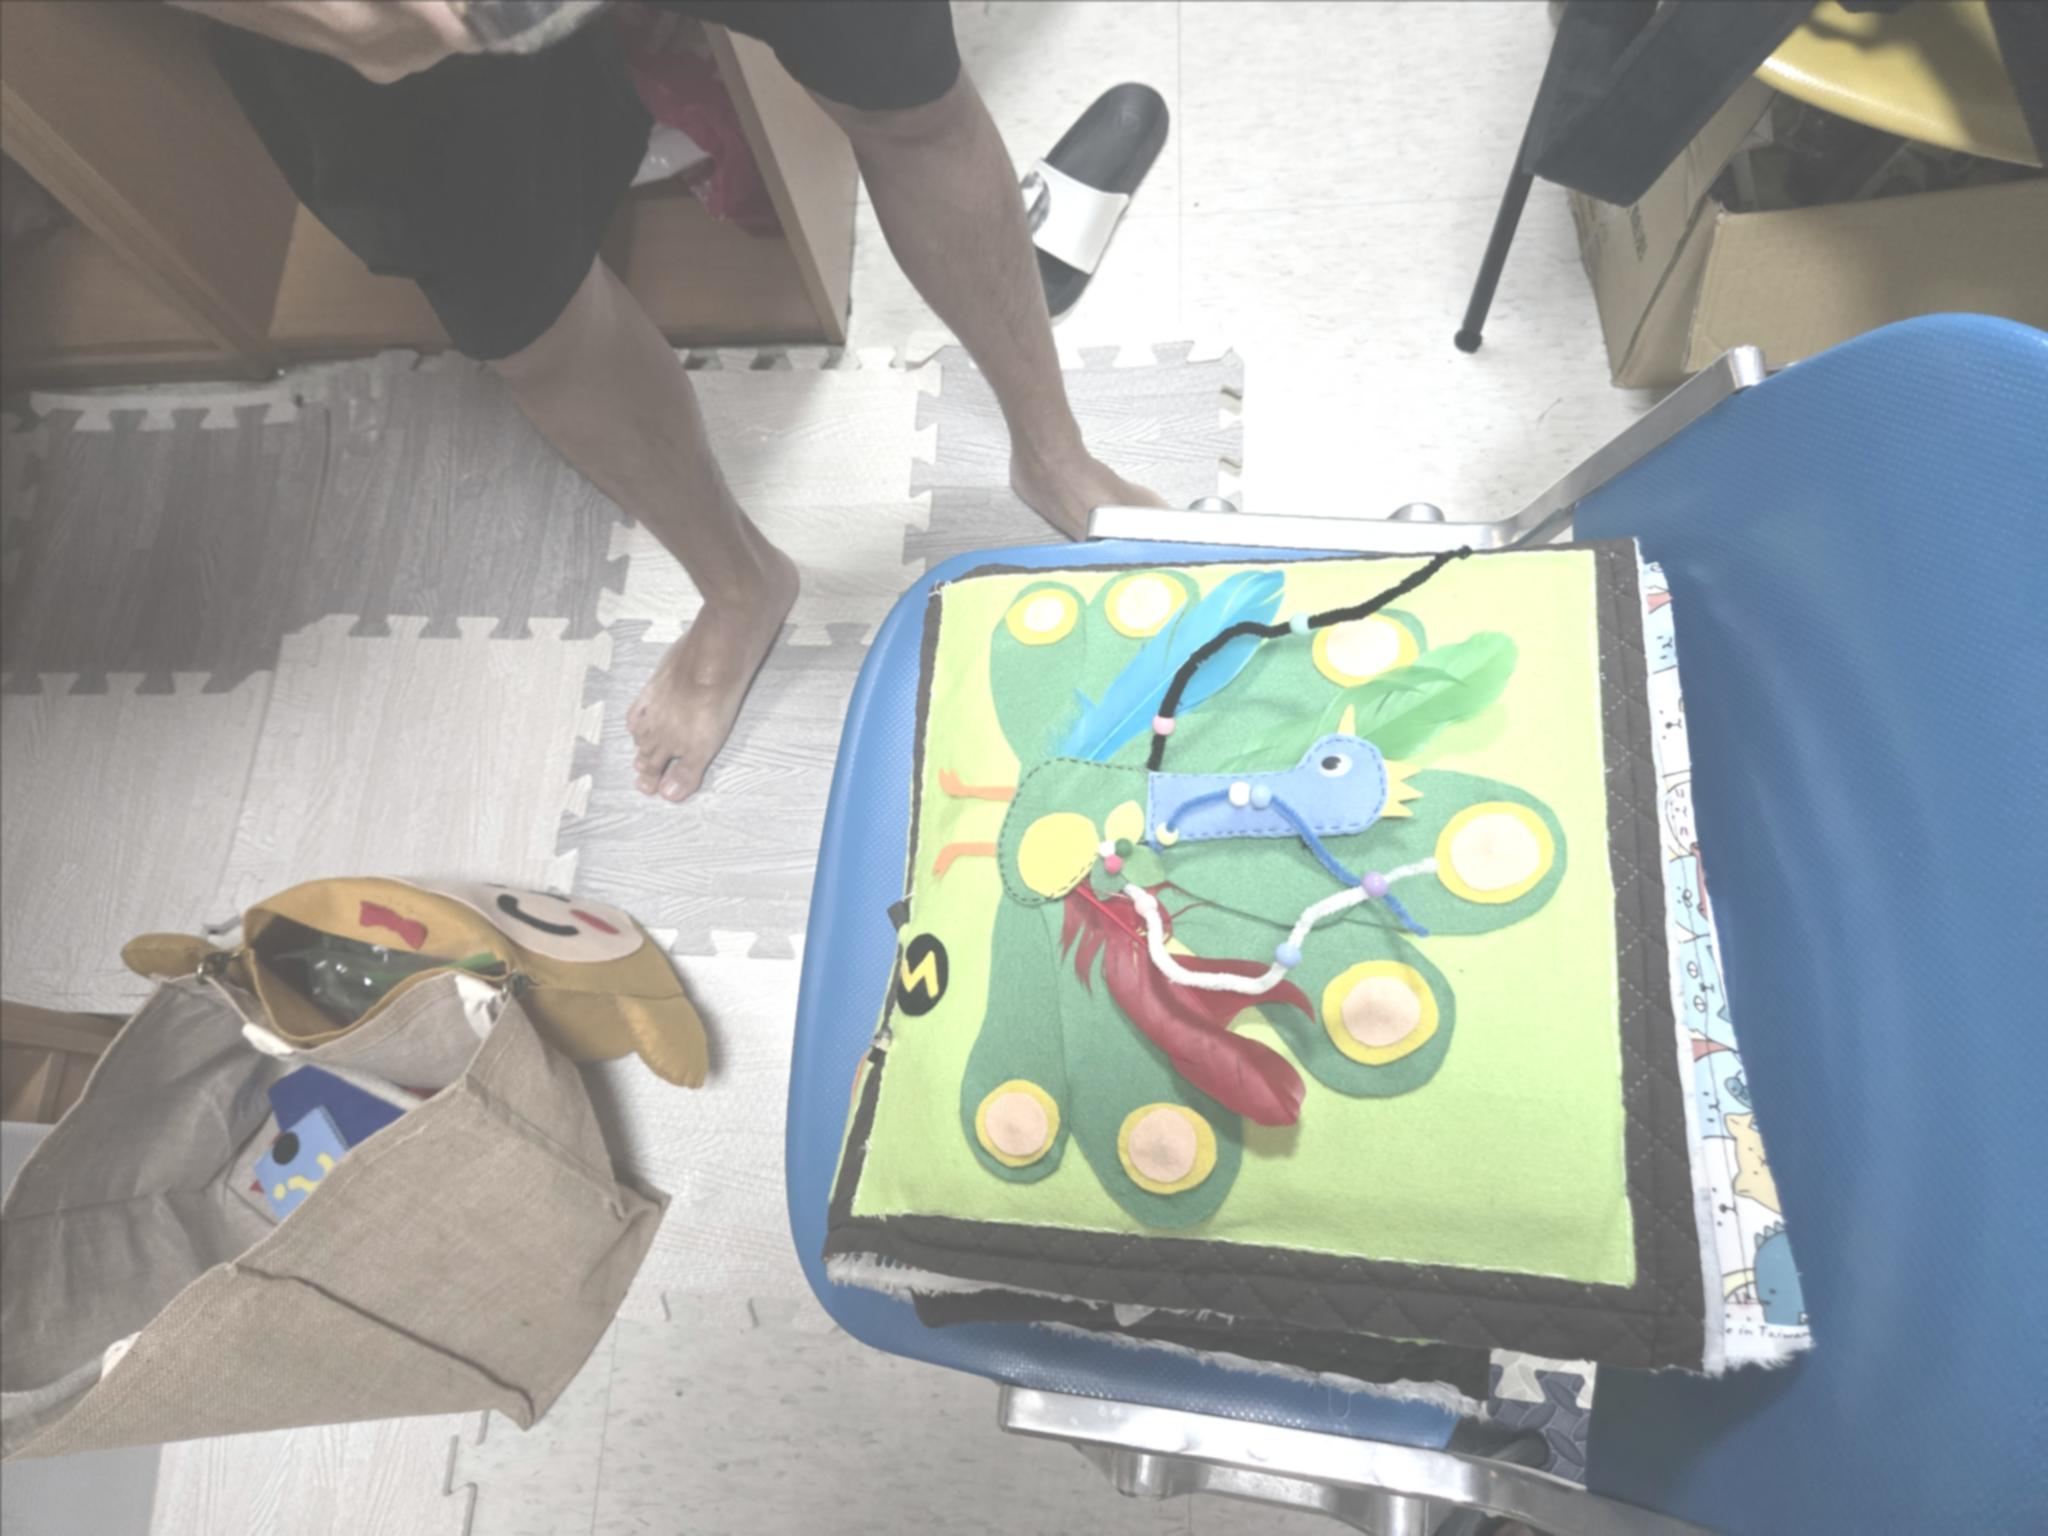bead: (1259, 921, 1317, 983), (1353, 855, 1398, 913), (1116, 881, 1168, 926), (1285, 607, 1319, 645), (1148, 703, 1174, 752), (1229, 779, 1250, 815)
